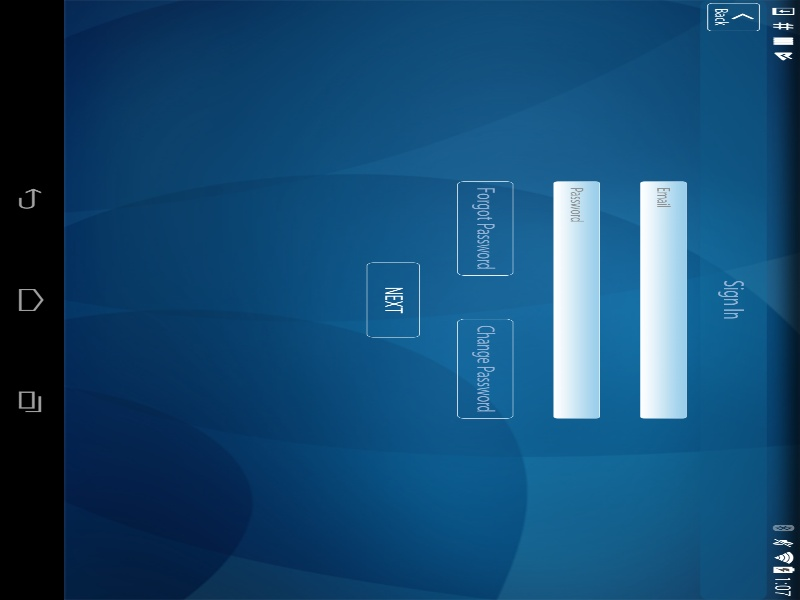Button: (560, 178, 720, 203)
